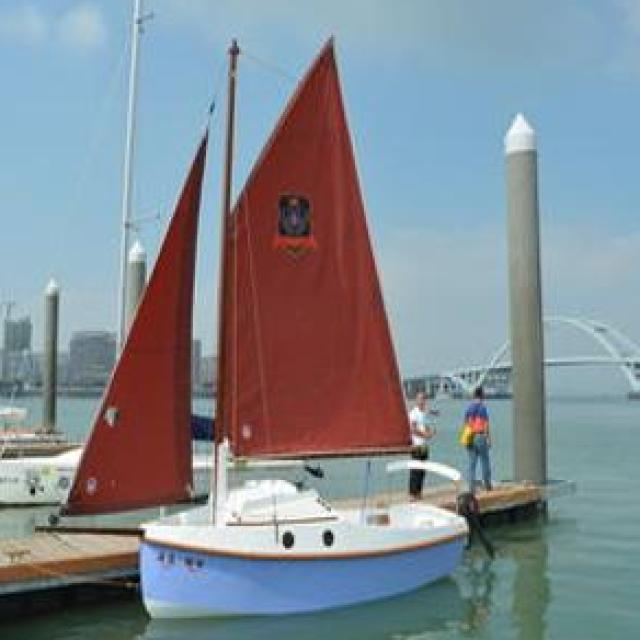sailboat: (74, 35, 465, 614)
